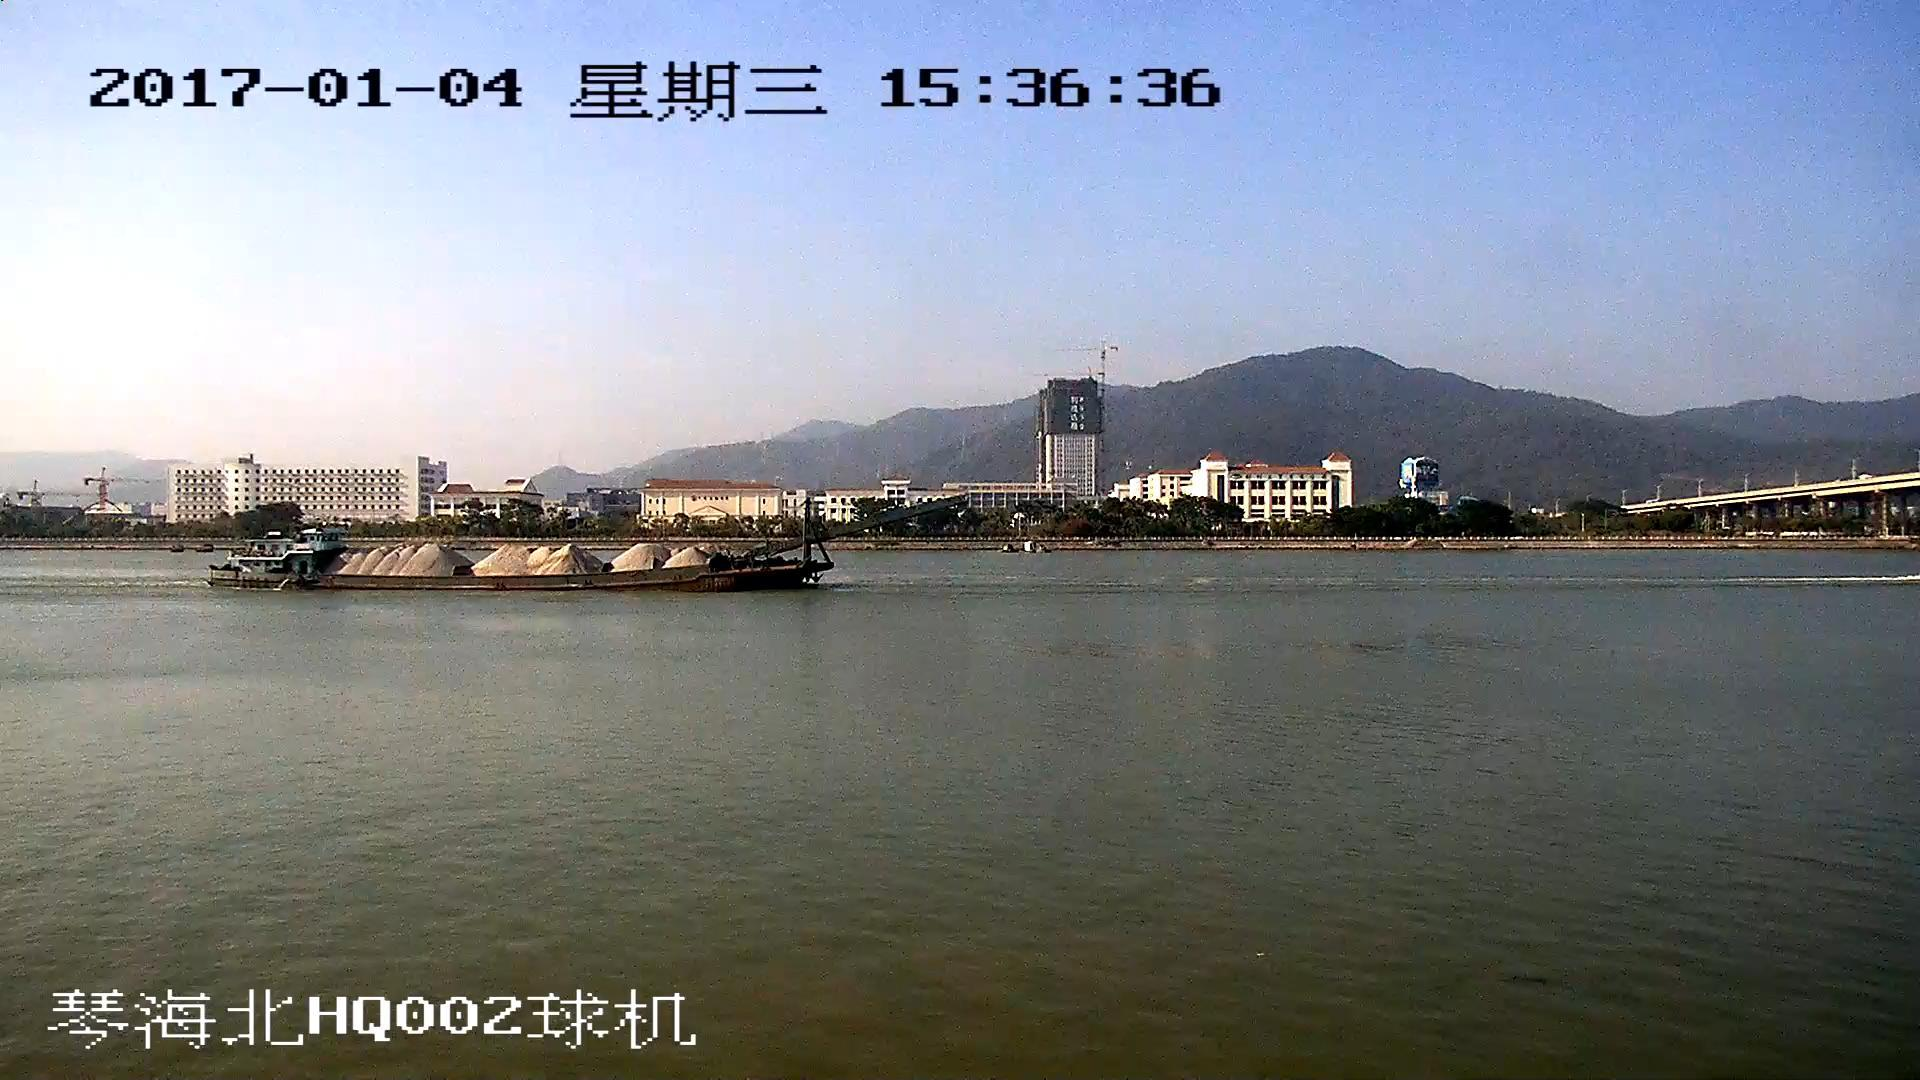Ship: (211, 497, 959, 592)
